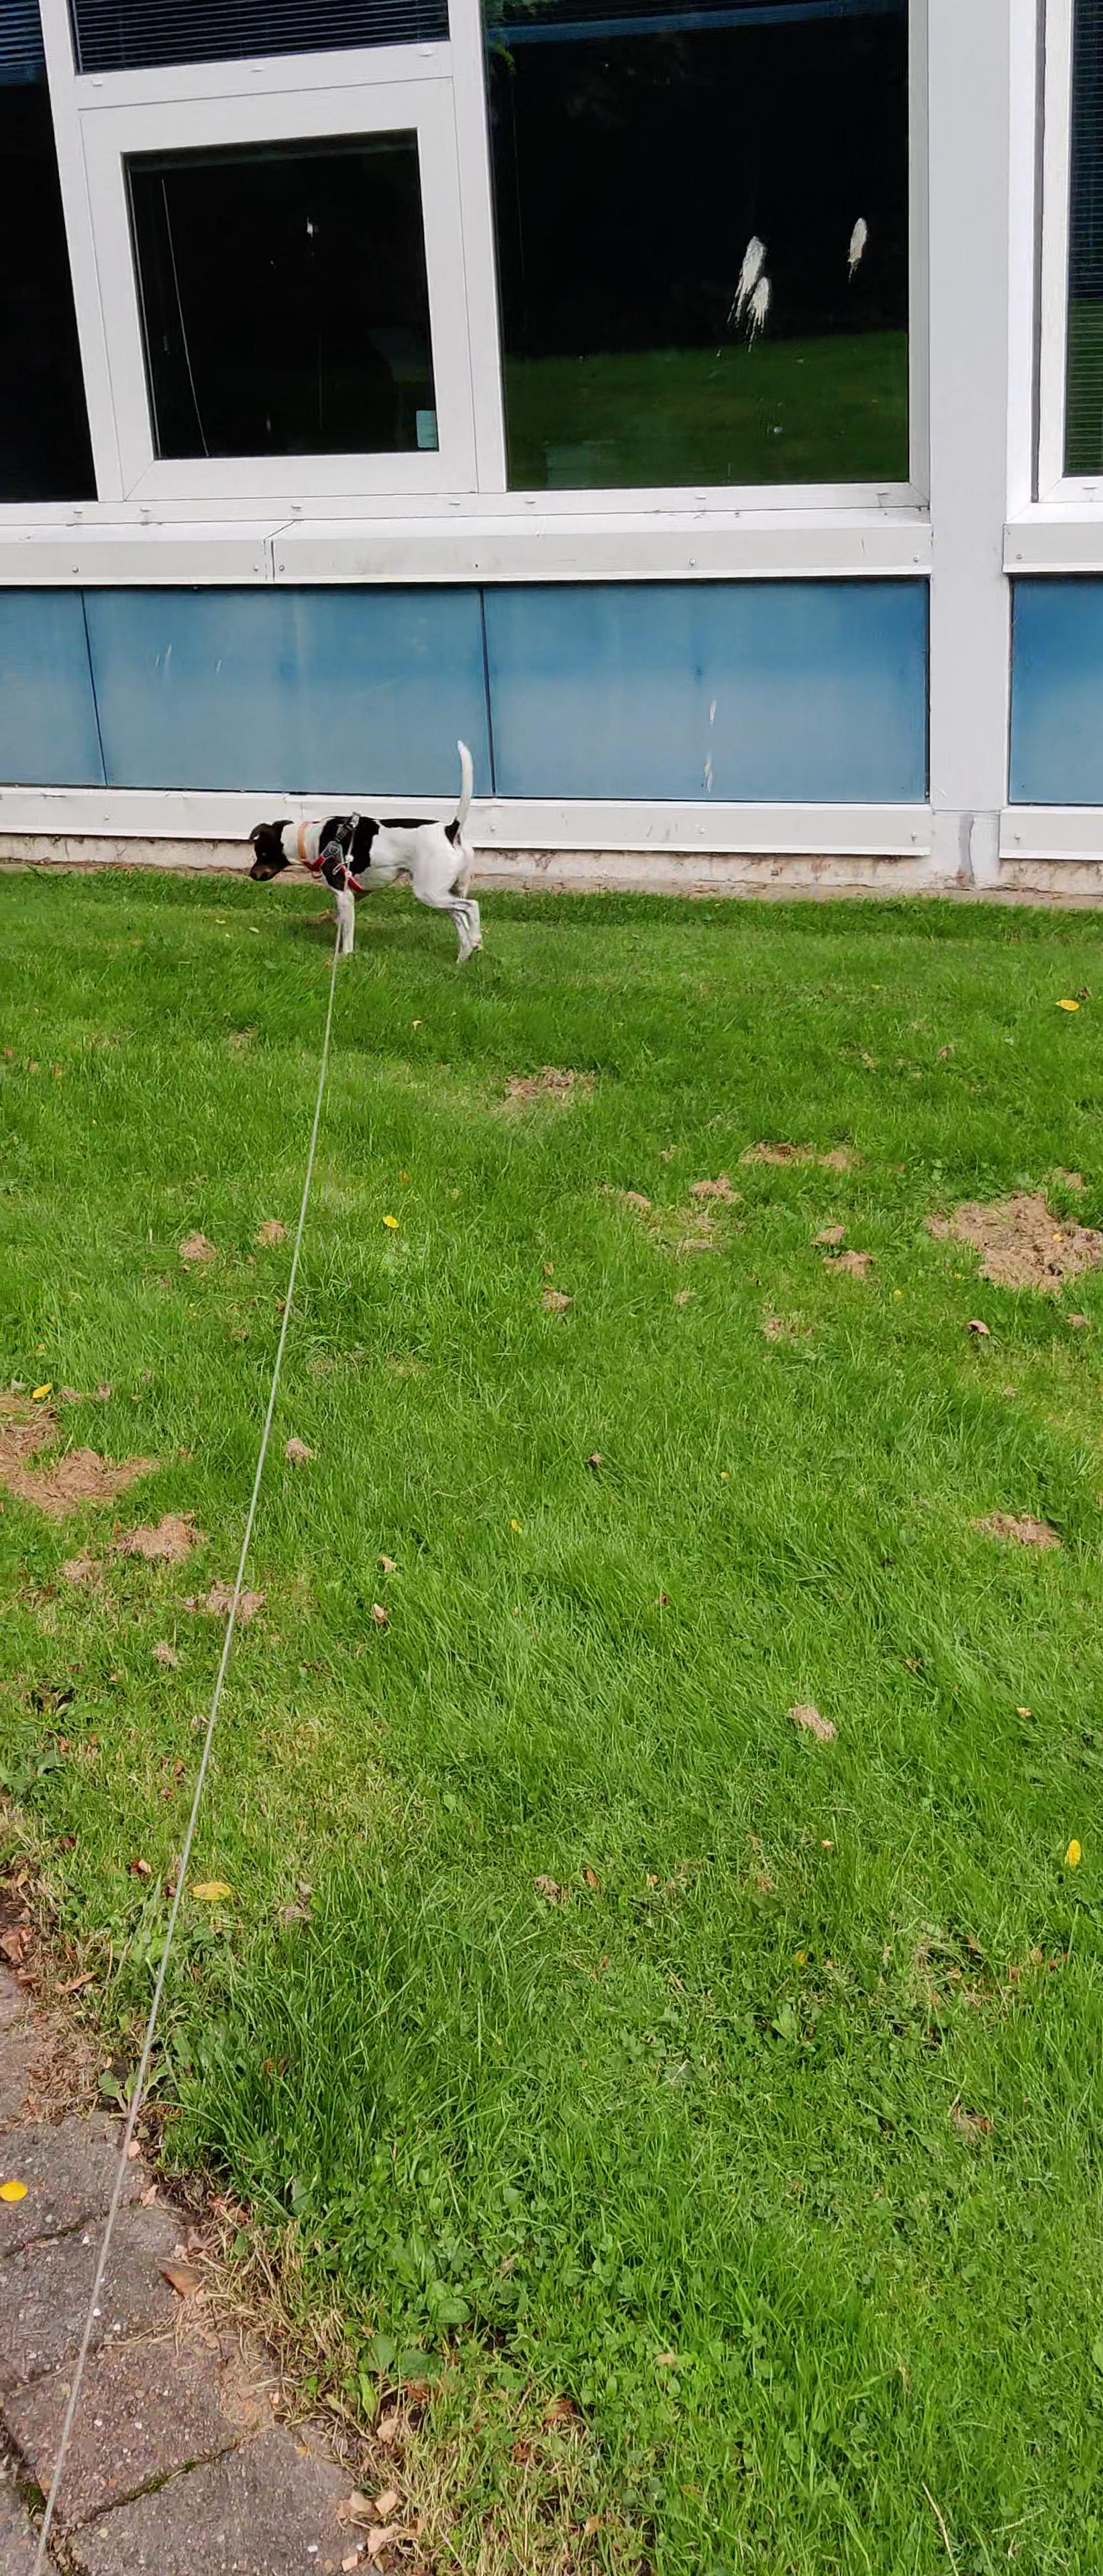Dog: (240, 734, 483, 966)
